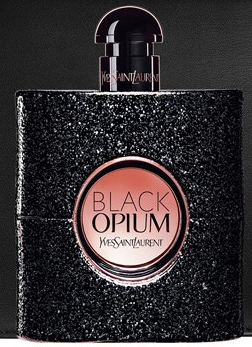ysl_black_opium: (11, 4, 246, 341)
